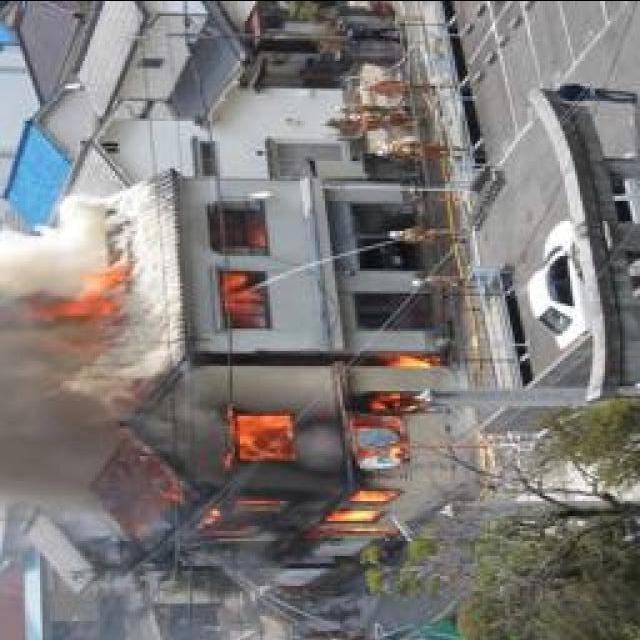Fire: (180, 352, 447, 549), (25, 245, 131, 336), (211, 215, 267, 327)
